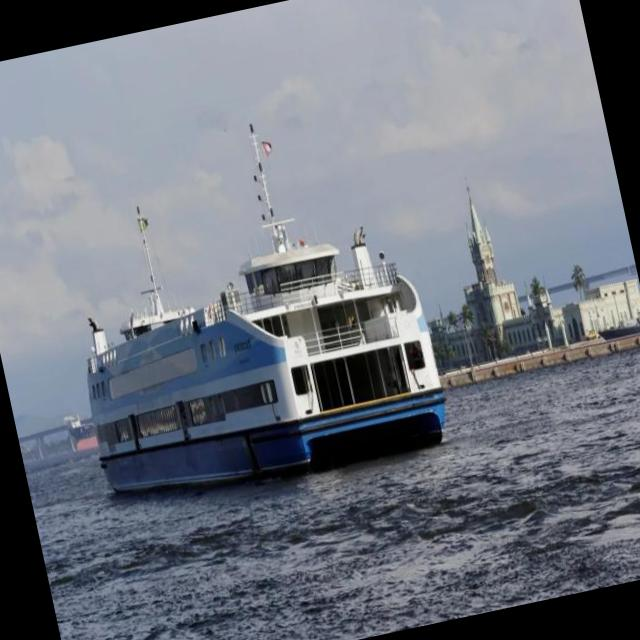Passenger: (88, 123, 445, 491)
